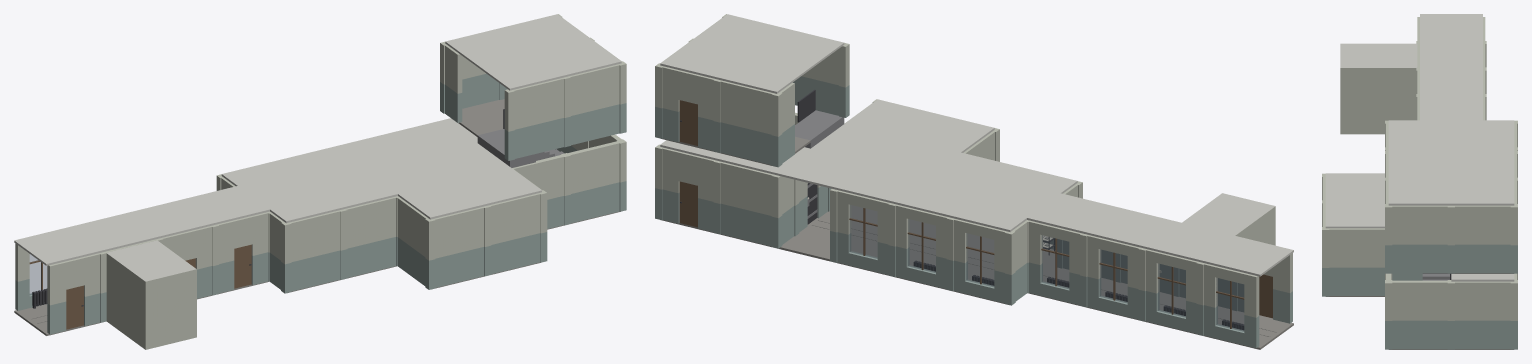
Rendered from INT_WardCorridor.glb.
The picture shows the model from 3 angles, left to right: view 1: azimuth 30°, elevation 25°; view 2: azimuth 150°, elevation 25°; view 3: azimuth 270°, elevation 25°; orthographic projection. The views are drawn at different scales.
Visible parts, largest first — view 1: INT_WardCorridor_Prop_RoomStub_01, INT_WardCorridor_Wall_Solid_01, INT_WardCorridor_Wall_Solid_06, INT_WardCorridor_Wall_Solid_08, INT_WardCorridor_Wall_Solid_12, INT_WardCorridor_Wall_Solid_15, INT_WardCorridor_Wall_Solid_02, INT_WardCorridor_Wall_Solid_14, INT_WardCorridor_Wall_Door_01, INT_WardCorridor_Wall_Door_04, INT_WardCorridor_Wall_Solid_04, INT_WardCorridor_Ceiling_Plain_13 (+40 smaller); view 2: INT_WardCorridor_Wall_Window_01, INT_WardCorridor_Wall_Window_02, INT_WardCorridor_Wall_Solid_09, INT_WardCorridor_Wall_Window_03, INT_WardCorridor_Wall_Window_06, INT_WardCorridor_Wall_Window_07, INT_WardCorridor_Wall_Solid_18, INT_WardCorridor_Wall_Window_04, INT_WardCorridor_Wall_Window_05, INT_WardCorridor_Wall_Door_07, INT_WardCorridor_Wall_Door_06, INT_WardCorridor_Prop_RoomStub_01 (+54 smaller); view 3: INT_WardCorridor_Prop_RoomStub_01, INT_WardCorridor_Wall_Solid_10, INT_WardCorridor_Wall_Solid_17, INT_WardCorridor_Wall_Solid_16, INT_WardCorridor_Wall_Solid_11, INT_WardCorridor_Wall_Solid_13, INT_WardCorridor_Ceiling_Tile_04, INT_WardCorridor_Ceiling_Tile_05, INT_WardCorridor_Ceiling_Tile_03, INT_WardCorridor_Ceiling_Tile_02, INT_WardCorridor_Ceiling_Plain_04, INT_WardCorridor_Ceiling_Tile_01 (+18 smaller).
Part boxes in pixels (x1,y1,x2,y2): INT_WardCorridor_Prop_RoomStub_01: (106,240,196,349); INT_WardCorridor_Wall_Solid_01: (289,210,340,291); INT_WardCorridor_Wall_Solid_06: (434,207,484,287); INT_WardCorridor_Wall_Solid_08: (567,141,619,223); INT_WardCorridor_Wall_Solid_12: (490,193,540,274); INT_WardCorridor_Wall_Solid_15: (569,64,619,145); INT_WardCorridor_Wall_Solid_02: (345,196,396,277); INT_WardCorridor_Wall_Solid_14: (512,78,563,158); INT_WardCorridor_Wall_Door_01: (47,253,100,334); INT_WardCorridor_Wall_Door_04: (217,212,268,293); INT_WardCorridor_Wall_Solid_04: (397,197,427,285); INT_WardCorridor_Ceiling_Plain_13: (398,180,486,219); INT_WardCorridor_Wall_Window_01: (1204,263,1259,348); INT_WardCorridor_Wall_Window_02: (1145,249,1198,333); INT_WardCorridor_Wall_Solid_09: (720,162,773,246); INT_WardCorridor_Wall_Window_03: (1086,235,1139,319); INT_WardCorridor_Wall_Window_06: (895,204,948,288); INT_WardCorridor_Wall_Window_07: (837,190,889,274); INT_WardCorridor_Wall_Solid_18: (720,80,773,164); INT_WardCorridor_Wall_Window_04: (1029,220,1082,305); INT_WardCorridor_Wall_Window_05: (954,219,1006,303); INT_WardCorridor_Wall_Door_07: (662,66,715,150); INT_WardCorridor_Wall_Door_06: (662,147,715,231); INT_WardCorridor_Prop_RoomStub_01: (1182,193,1275,245); INT_WardCorridor_Prop_RoomStub_01: (1340,43,1417,134); INT_WardCorridor_Wall_Solid_10: (1392,280,1448,349); INT_WardCorridor_Wall_Solid_17: (1454,205,1511,273); INT_WardCorridor_Wall_Solid_16: (1391,205,1448,273); INT_WardCorridor_Wall_Solid_11: (1455,281,1511,349); INT_WardCorridor_Wall_Solid_13: (1328,228,1384,295); INT_WardCorridor_Ceiling_Tile_04: (1388,177,1451,205); INT_WardCorridor_Ceiling_Tile_05: (1451,177,1514,205); INT_WardCorridor_Ceiling_Tile_03: (1451,150,1514,177); INT_WardCorridor_Ceiling_Tile_02: (1388,150,1451,177); INT_WardCorridor_Ceiling_Plain_04: (1420,93,1482,120); INT_WardCorridor_Ceiling_Tile_01: (1325,200,1384,228).
Size of the model in its own units: 30.17 by 7.7 by 9.35.
